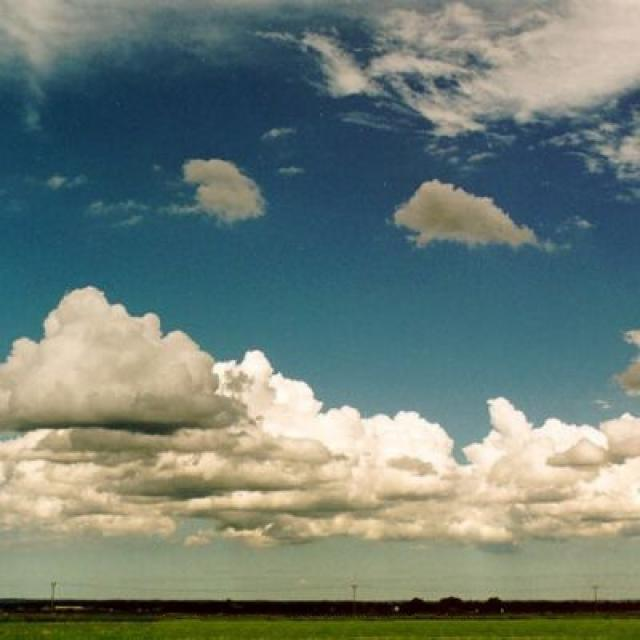Cu: (4, 249, 640, 561)
